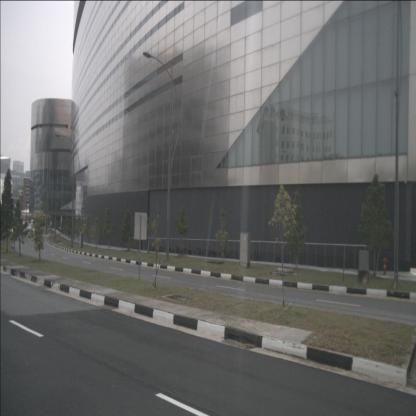vehicle-car: (26, 225, 32, 232)
